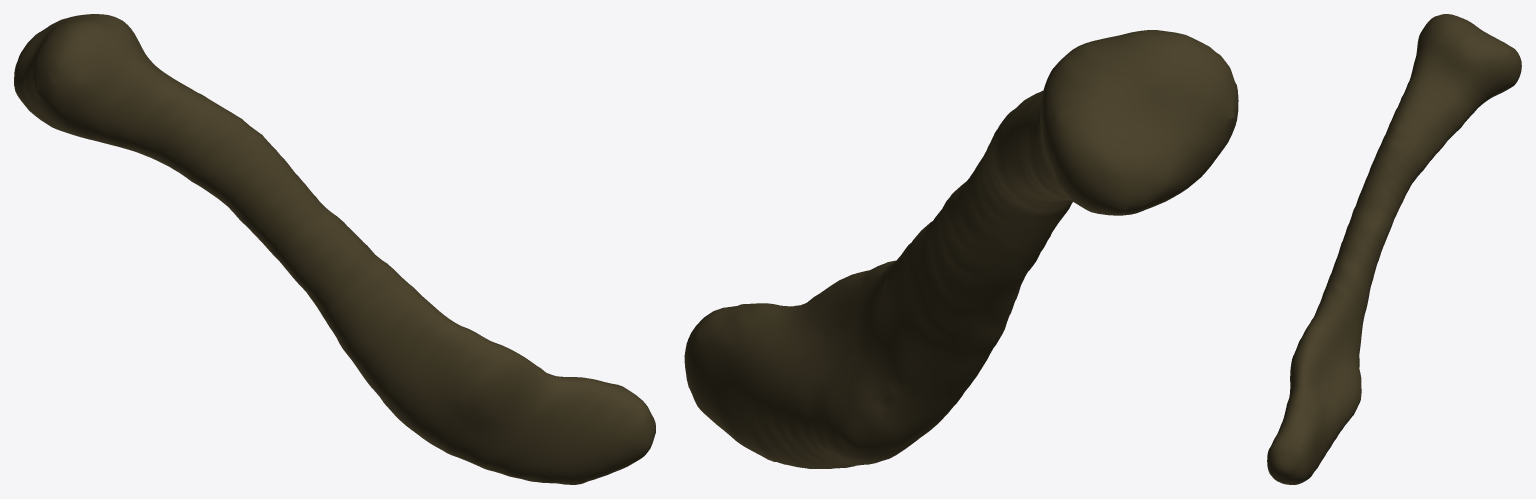
Rendered from segmentations_clavicula_right.obj.
The picture shows the model from 3 angles, left to right: view 1: azimuth 30°, elevation 25°; view 2: azimuth 150°, elevation 25°; view 3: azimuth 270°, elevation 25°; orthographic projection. The views are drawn at different scales.
Visible parts, largest first — view 1: grp1; view 2: grp1; view 3: grp1.
Boxes of the visible parts, x1,y1,x2,y2 form: grp1: (14, 14, 655, 484); grp1: (684, 30, 1238, 468); grp1: (1267, 14, 1521, 484).
Bounding box in the file's own units: 67.32 × 60.65 × 42.22.
